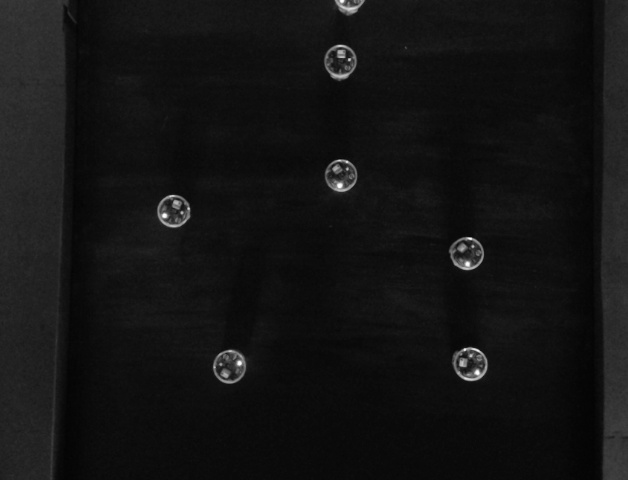epuck_2: (211, 349, 247, 386), (451, 345, 487, 381), (325, 155, 359, 193), (323, 45, 357, 81), (156, 194, 191, 228), (450, 236, 484, 271), (332, 1, 364, 16)
